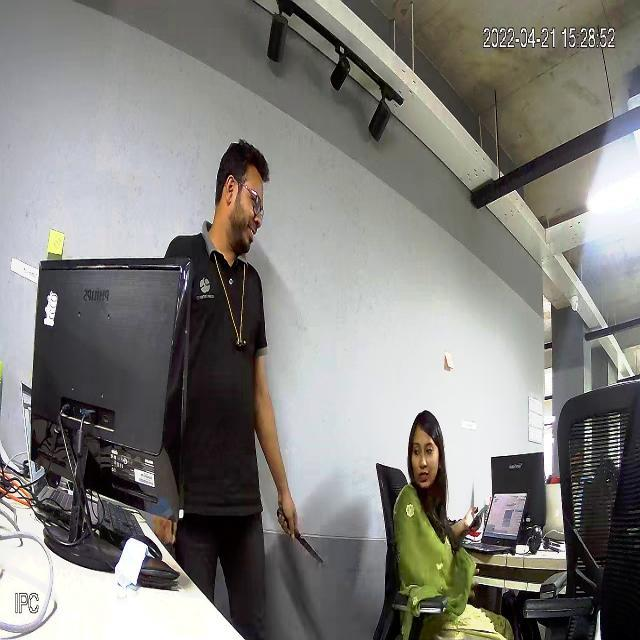Knife: (267, 501, 331, 562)
